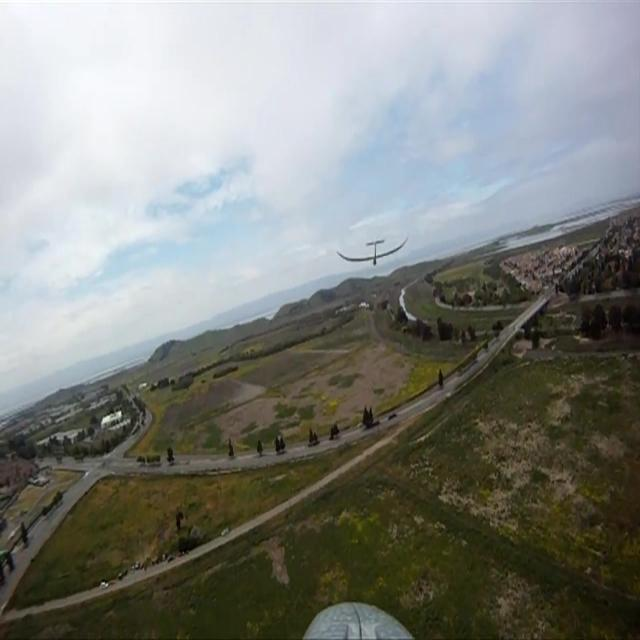iha: (369, 236, 374, 268)
